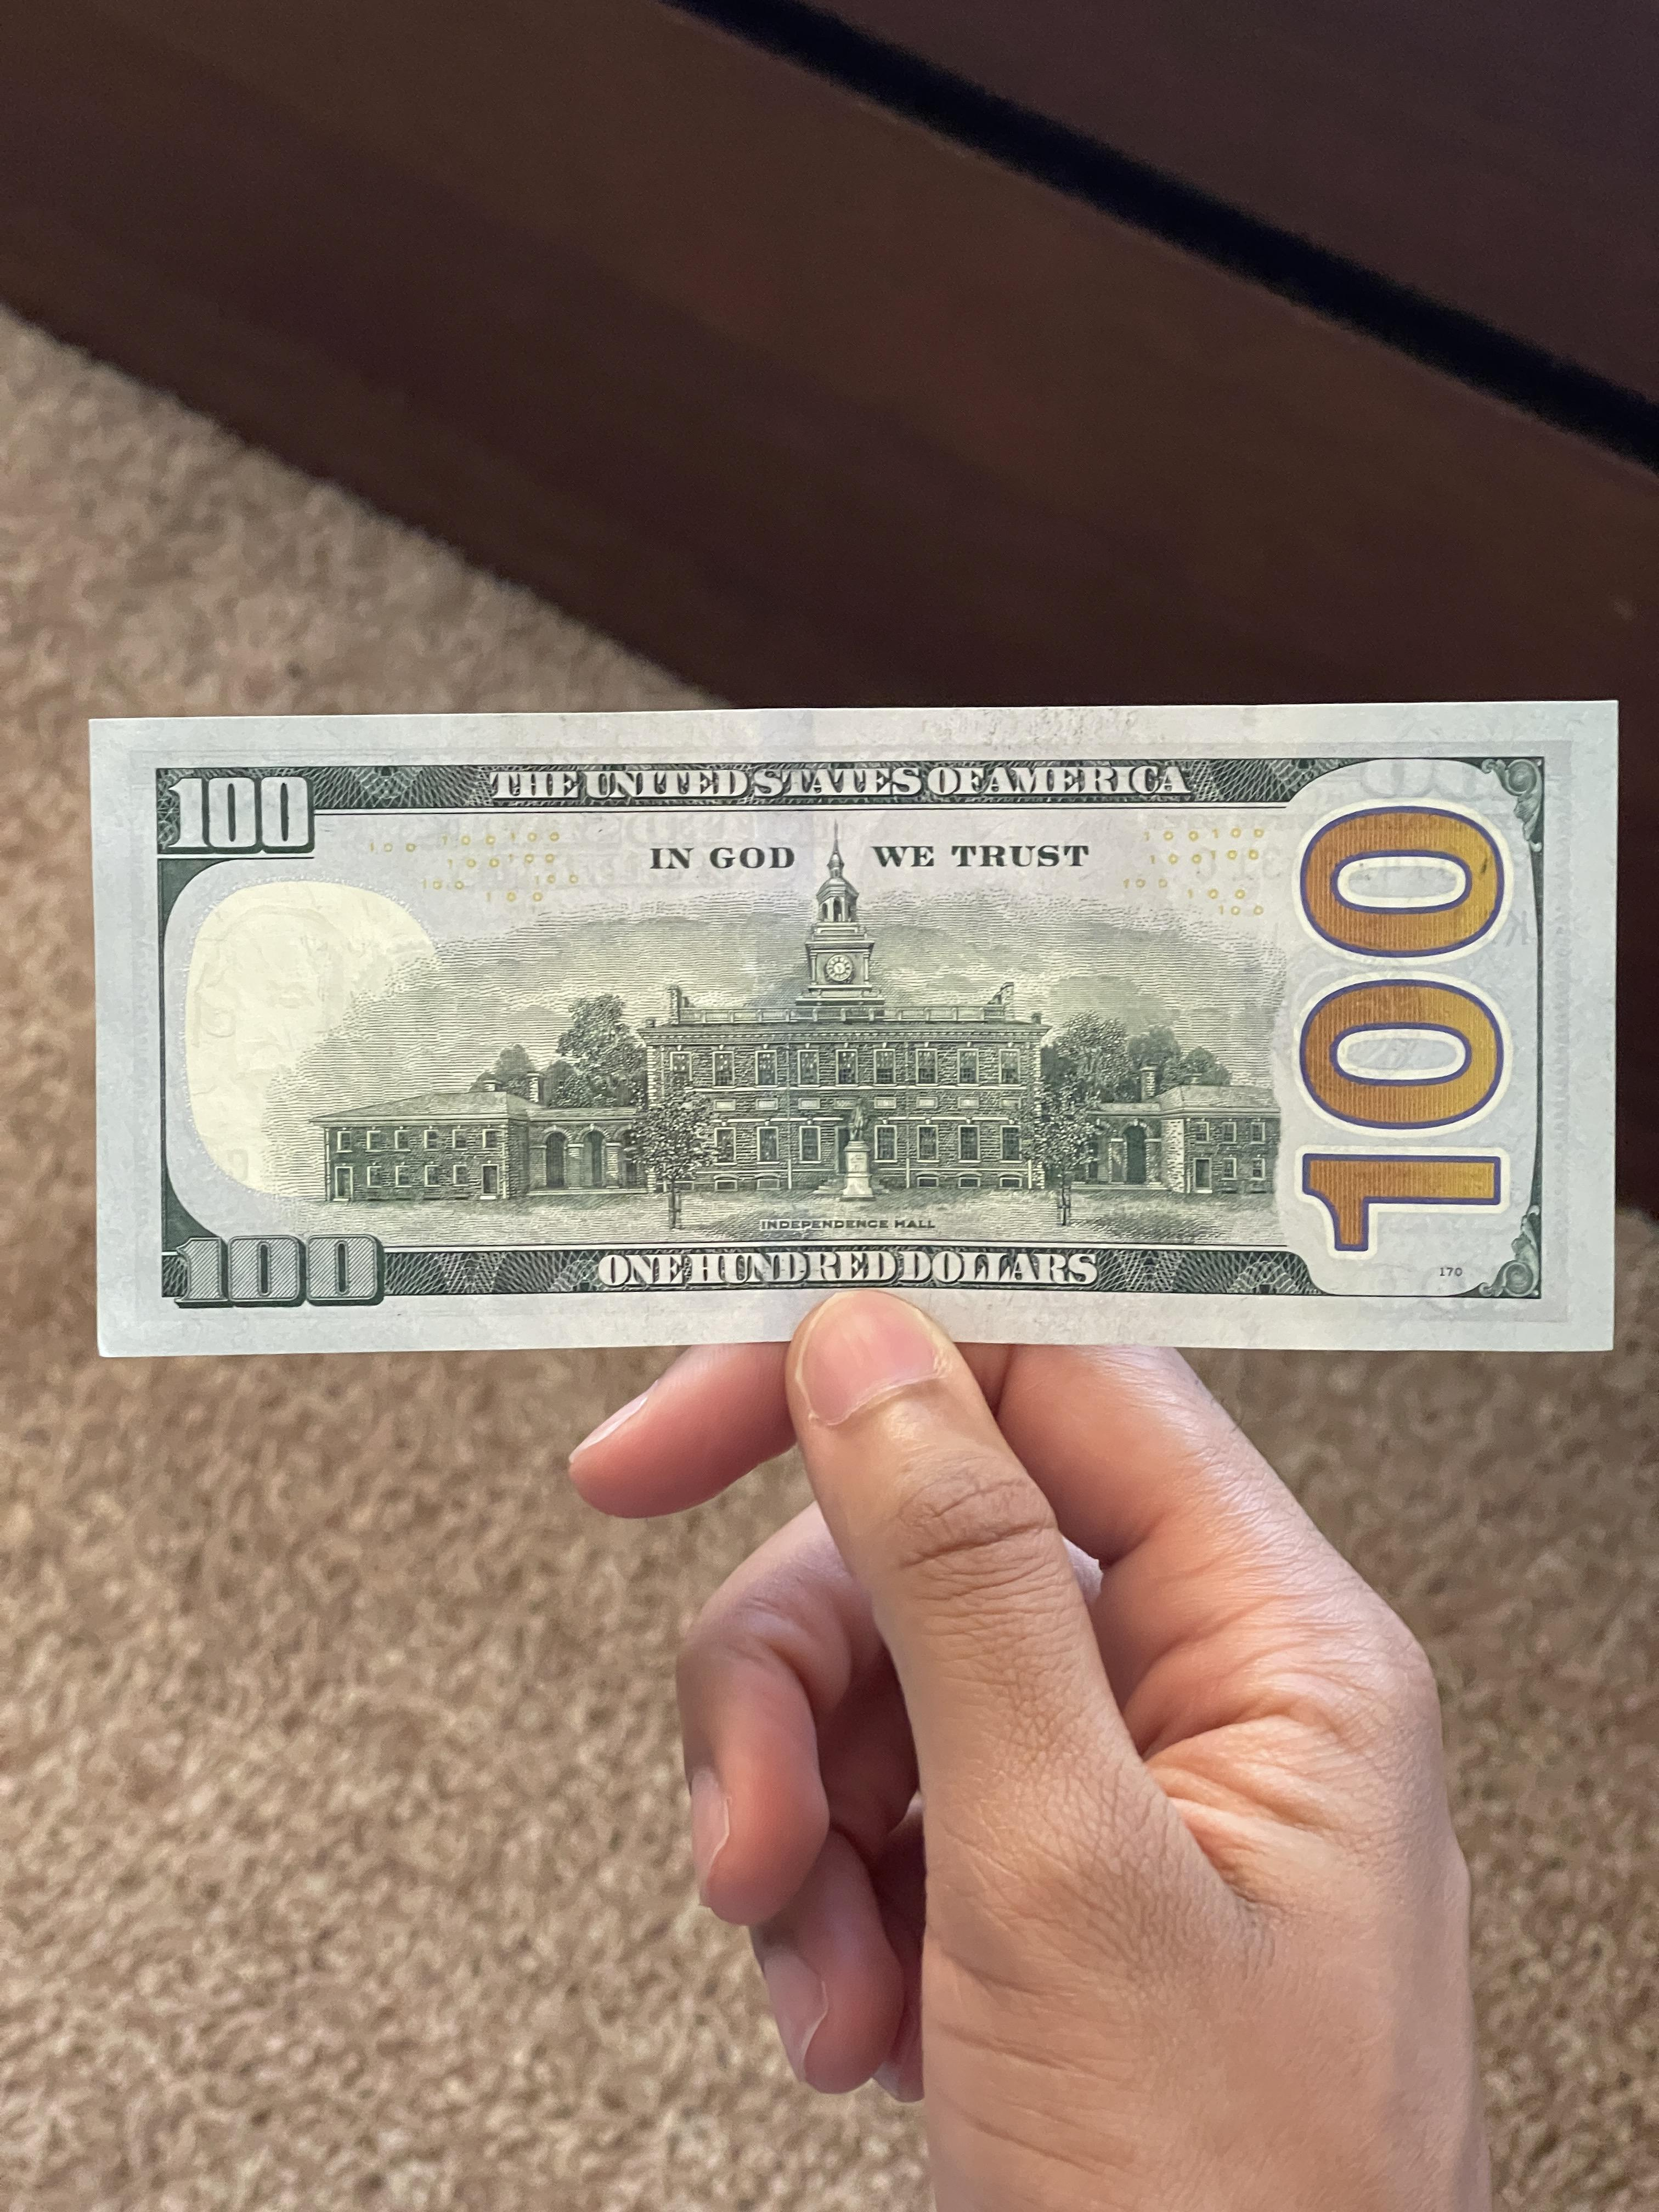HundredBill: (82, 693, 1624, 1364)
